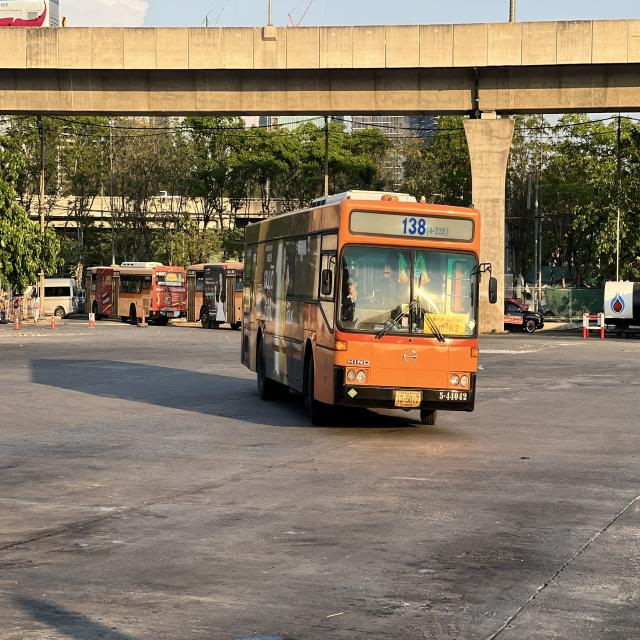BMTA-bus: (240, 194, 483, 426), (84, 262, 189, 326), (187, 260, 246, 328)
Bus-Line-Number: (400, 213, 451, 238)
Destination-Sign-Normal-Expressway: (424, 315, 466, 334)
